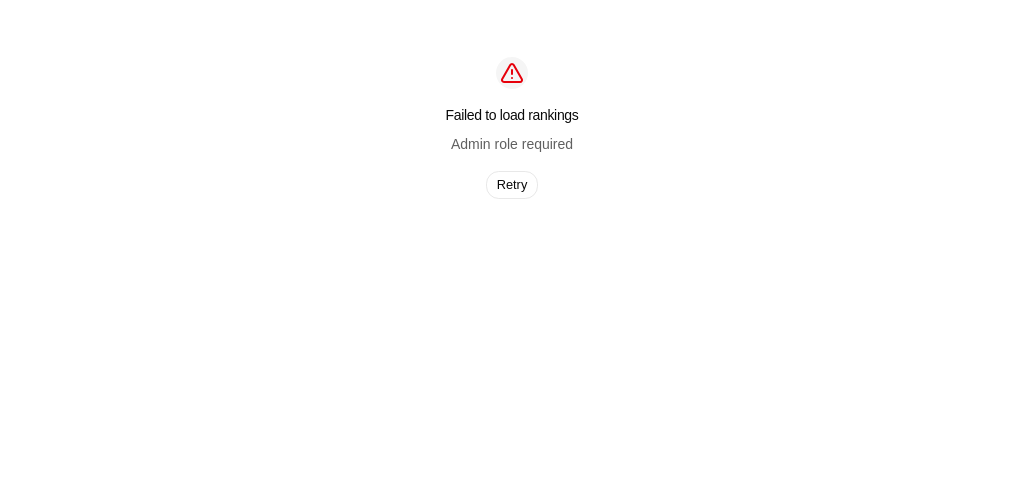
Scenario: RankingsPage › shows the server refusal, not an empty board, and retries
Expected: the element with test id "rankings-error" shows "Failed to load rankings", [446, 107, 578, 123]
Expected: the element with test id "rankings-error" shows "Admin role required", [451, 136, 573, 152]
Click the button: x=512, y=185 [486, 171, 538, 199]
(page scrolled)
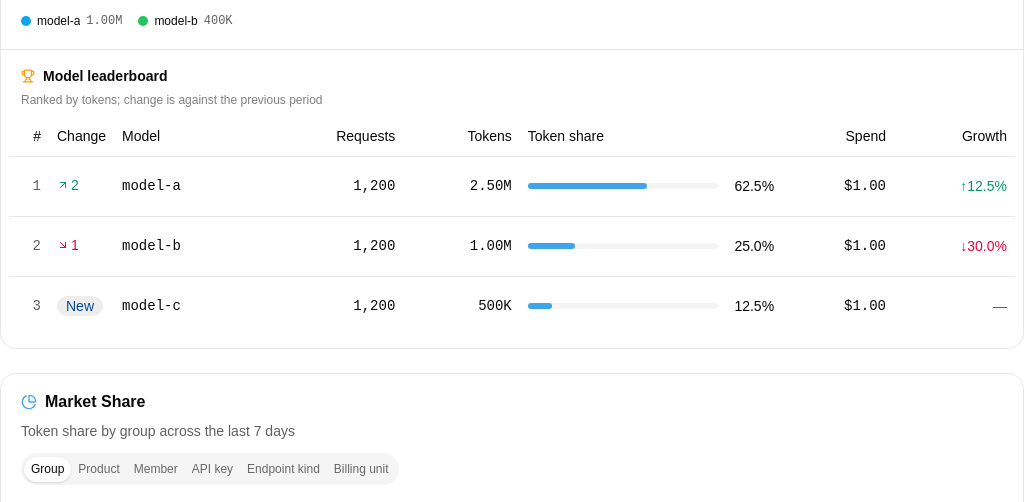
Expected: the element with test id "rankings-model-table" is shown, [9, 116, 1015, 336]
